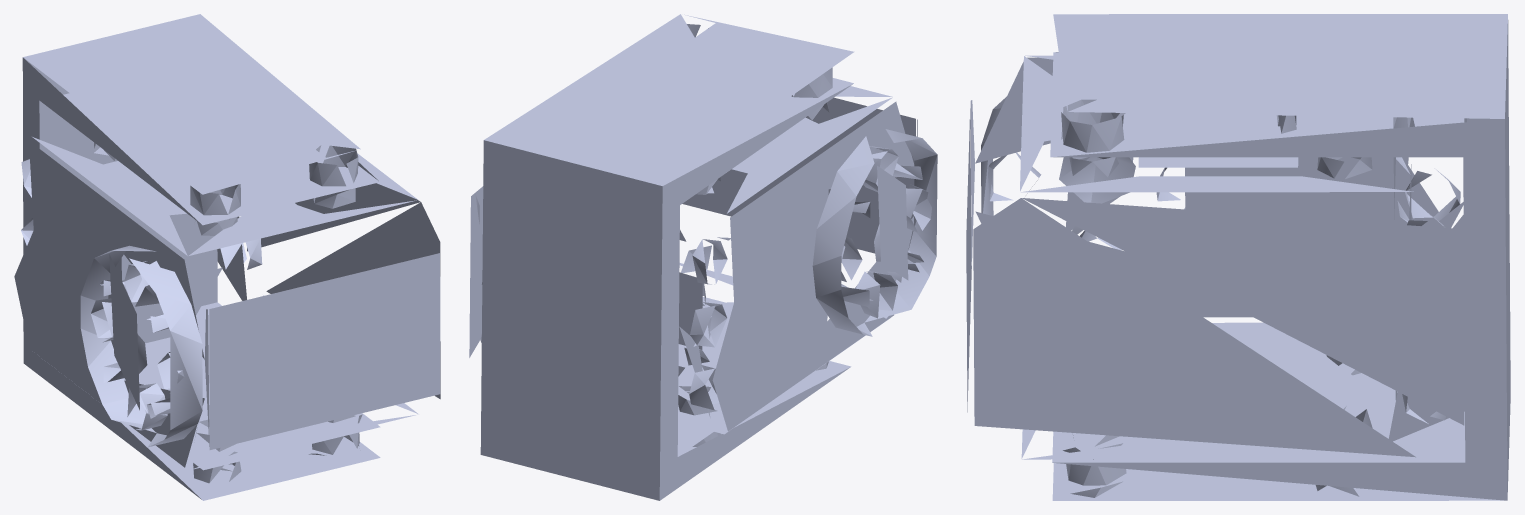
File: part_0_opt.obj
The picture shows the model from 3 angles, left to right: view 1: azimuth 30°, elevation 25°; view 2: azimuth 150°, elevation 25°; view 3: azimuth 270°, elevation 25°; orthographic projection. The views are drawn at different scales.
Visible parts, largest first — view 1: NONE_DC_Shell, Cut_Extrude3_DC_Shell; view 2: Cut_Extrude3_DC_Shell, NONE_DC_Shell; view 3: NONE_DC_Shell, Cut_Extrude3_DC_Shell.
Part boxes in pixels (box(x1,y1,x2,y2)): NONE_DC_Shell: box(14, 117, 440, 469); Cut_Extrude3_DC_Shell: box(22, 14, 380, 500); Cut_Extrude3_DC_Shell: box(480, 14, 854, 500); NONE_DC_Shell: box(469, 86, 937, 434); NONE_DC_Shell: box(966, 55, 1464, 459); Cut_Extrude3_DC_Shell: box(1050, 14, 1510, 500).
Size of the model in its own units: 27.46 by 30.32 by 38.89.
